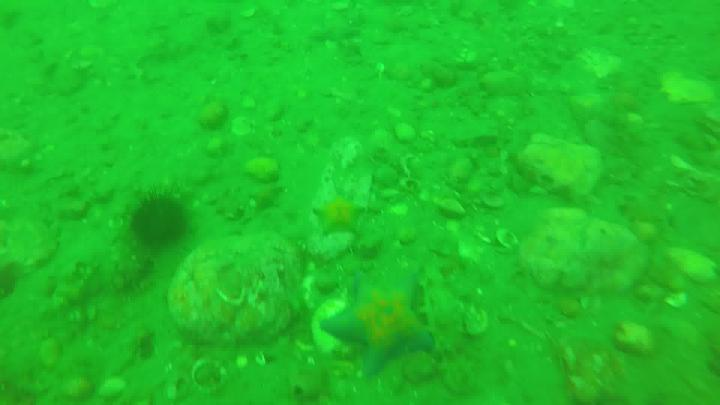echinus: (132, 190, 186, 246)
scallop: (307, 301, 348, 357), (193, 361, 230, 393), (498, 231, 524, 251), (477, 192, 504, 209), (441, 198, 465, 217), (404, 176, 426, 195), (399, 125, 418, 144)
starfish: (321, 269, 434, 377), (312, 192, 364, 240)
